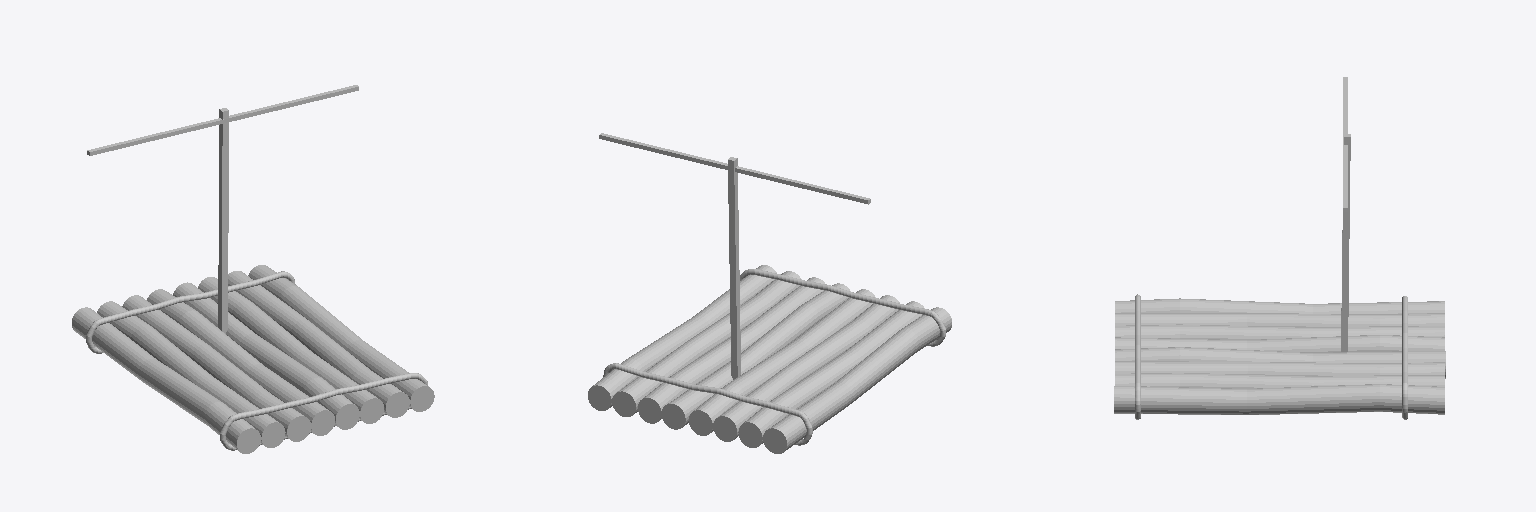
The model's file is raft.obj.
3 renders of one model, left to right at view 1: azimuth 30°, elevation 25°; view 2: azimuth 150°, elevation 25°; view 3: azimuth 270°, elevation 25°, orthographic.
Visible parts, largest first — view 1: Wood_Raft; view 2: Wood_Raft; view 3: Wood_Raft.
Part boxes in pixels (left/top/right/bottom): Wood_Raft: left=72, top=85, right=434, bottom=453; Wood_Raft: left=588, top=133, right=951, bottom=453; Wood_Raft: left=1114, top=77, right=1445, bottom=419.
Size of the model in its own units: 3.73 by 3.21 by 3.98.